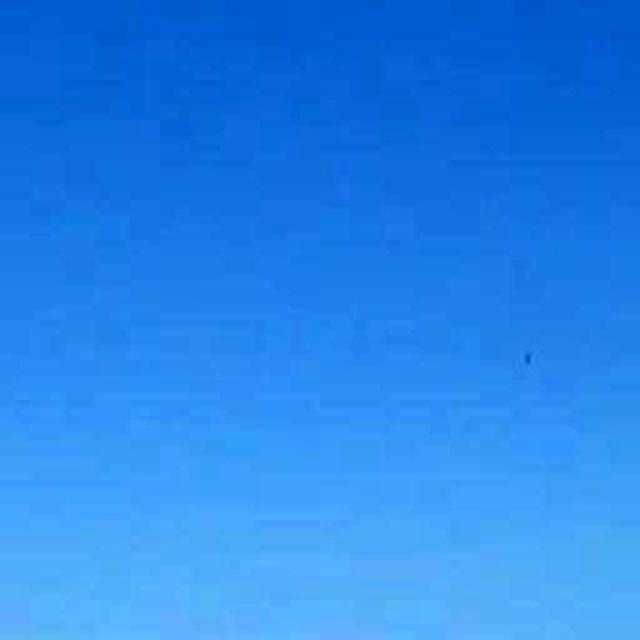drone: (506, 315, 552, 398)
